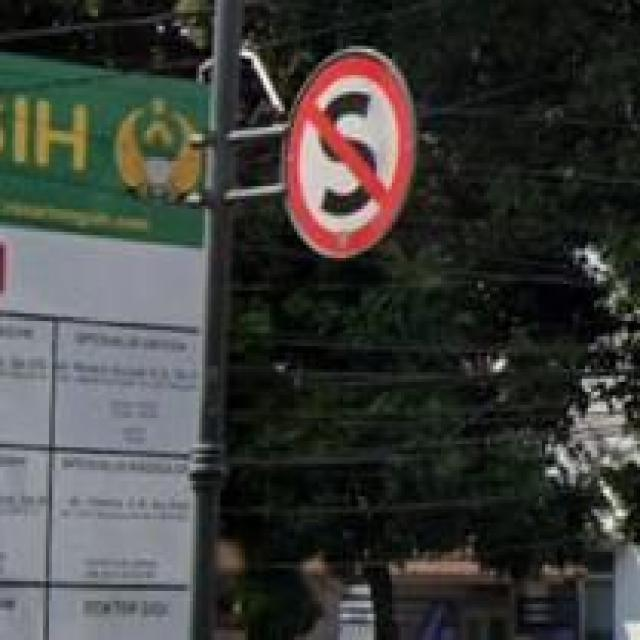traffic sign: (288, 56, 410, 255)
